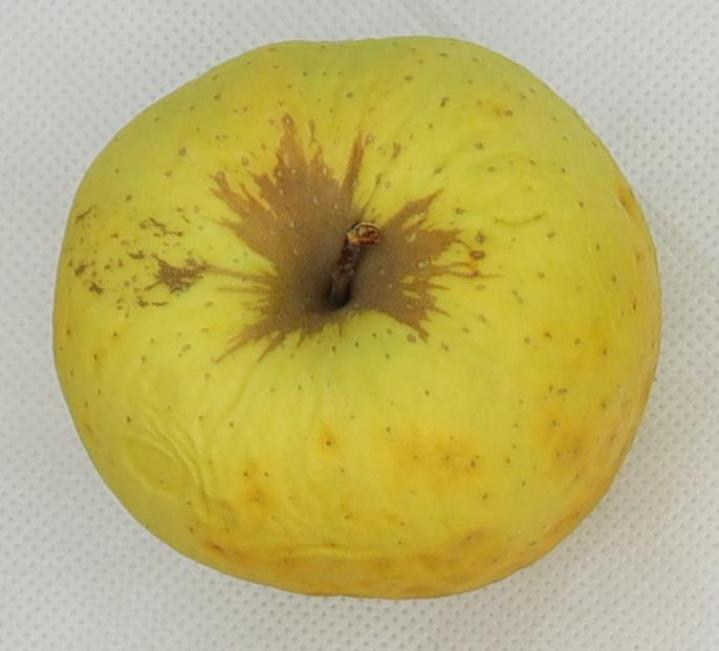apple: (54, 37, 660, 598)
bruise_discoloration: (154, 112, 471, 359)
